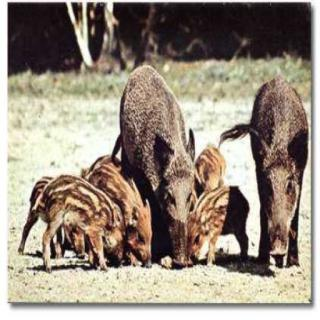Pig: (85, 57, 224, 273), (217, 71, 320, 283)
